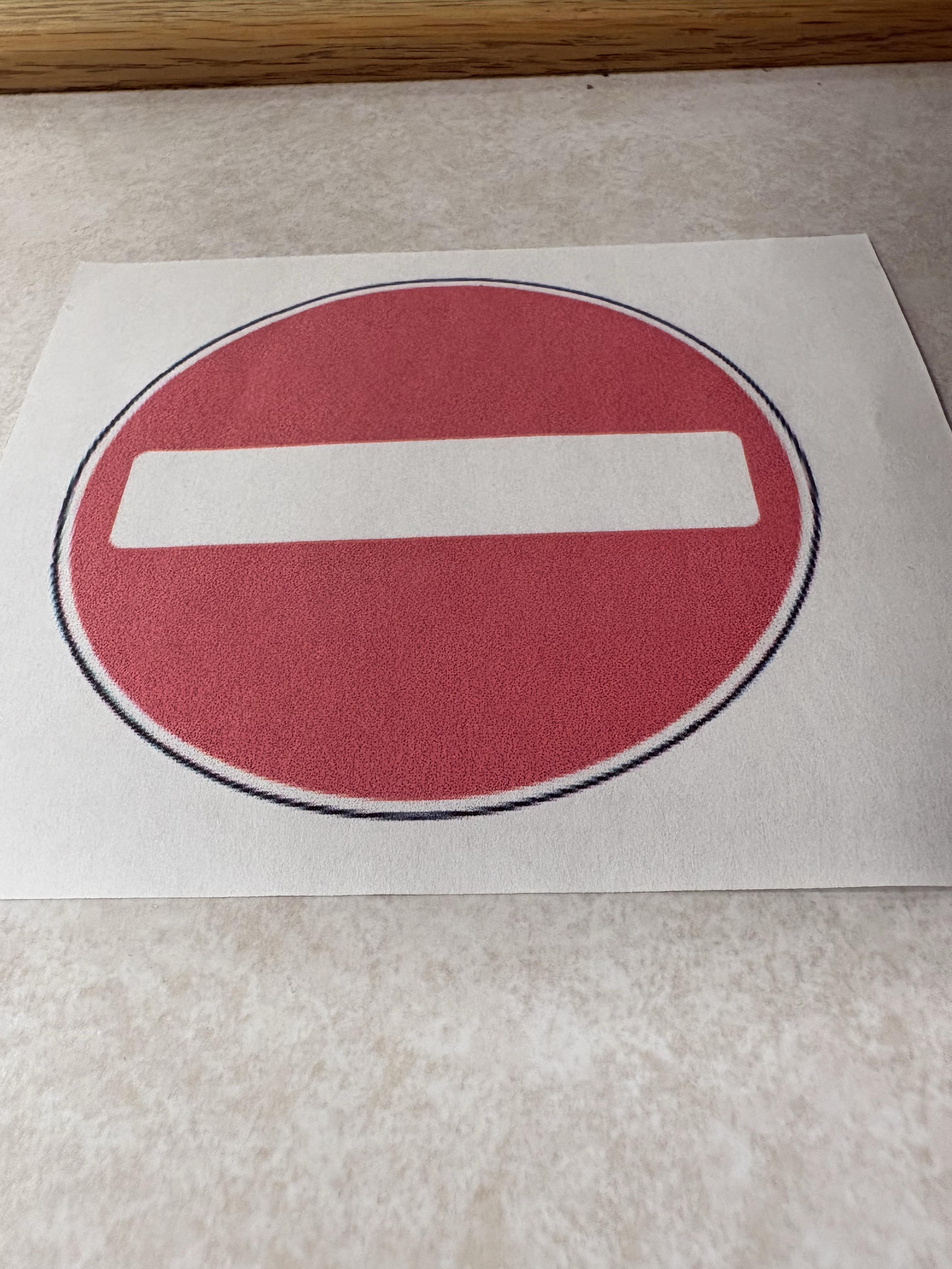No Entry: (0, 316, 712, 1197)
